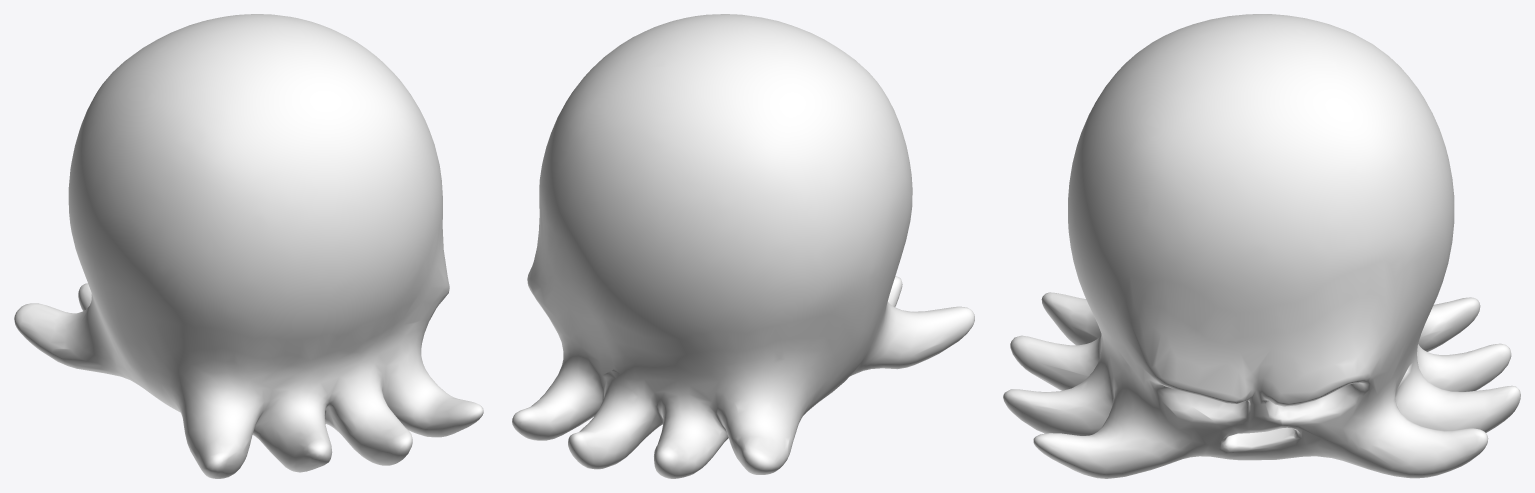
File: octopus.glb
The picture shows the model from 3 angles, left to right: view 1: azimuth 30°, elevation 25°; view 2: azimuth 150°, elevation 25°; view 3: azimuth 270°, elevation 25°; orthographic projection. The views are drawn at different scales.
Visible parts, largest first — view 1: Cube.001; view 2: Cube.001; view 3: Cube.001.
Boxes of the visible parts, x1,y1,x2,y2 form: Cube.001: (14,14,483,478); Cube.001: (512,14,974,478); Cube.001: (1003,14,1520,478).
Bounding box in the file's own units: 2.76 × 3.05 × 3.66.
Materials: 1 (1 with a texture image).
